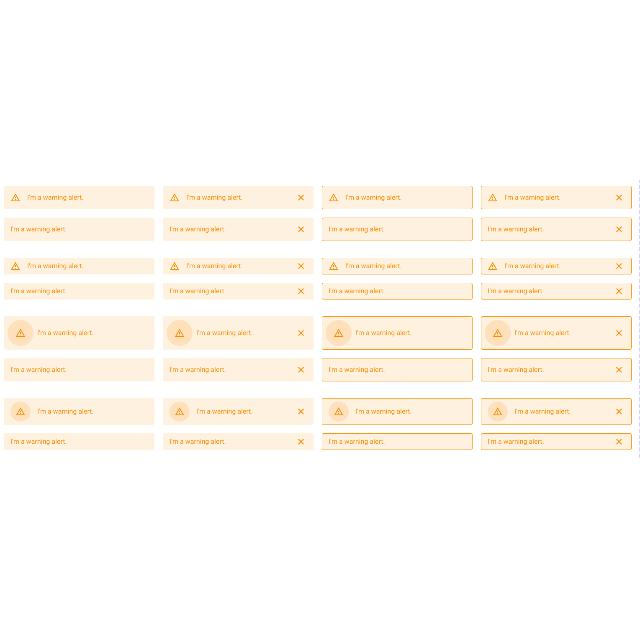QLabel: (186, 260, 244, 272), (194, 406, 253, 416), (196, 328, 254, 338), (169, 365, 227, 375), (354, 329, 412, 339), (37, 408, 95, 417), (168, 438, 226, 447), (327, 224, 385, 233), (354, 408, 412, 417), (328, 438, 386, 447), (170, 224, 227, 233), (488, 438, 544, 447), (168, 287, 228, 295), (26, 194, 84, 202), (185, 194, 243, 202), (344, 194, 402, 202), (344, 262, 402, 270), (328, 288, 386, 296), (514, 329, 572, 337), (486, 366, 544, 374), (9, 366, 66, 374), (9, 438, 66, 446), (328, 366, 384, 374), (504, 194, 560, 202), (488, 226, 544, 234), (504, 262, 560, 270), (488, 288, 544, 296), (514, 408, 570, 416), (10, 225, 68, 232), (37, 329, 93, 336), (27, 264, 83, 270), (10, 288, 66, 294)
VAlert: (162, 316, 314, 350), (481, 316, 632, 350), (322, 316, 472, 350), (4, 316, 154, 349), (162, 398, 314, 426), (481, 398, 632, 426), (4, 398, 154, 426), (322, 398, 472, 426), (322, 216, 472, 242), (162, 217, 314, 241), (162, 358, 314, 382), (481, 186, 632, 210), (481, 217, 632, 241), (481, 358, 632, 382), (4, 185, 154, 209), (4, 217, 154, 241), (4, 358, 154, 382), (322, 186, 472, 210), (322, 358, 472, 382), (162, 187, 314, 210), (163, 257, 315, 275), (162, 282, 314, 300), (481, 282, 632, 300), (322, 282, 472, 300), (162, 434, 314, 451), (481, 434, 632, 451), (4, 434, 154, 451), (322, 434, 472, 451), (481, 258, 632, 274), (4, 258, 154, 274), (4, 283, 154, 299), (322, 258, 472, 274)
VIcon: (487, 192, 497, 204), (492, 328, 502, 338), (333, 407, 342, 418), (334, 329, 344, 338), (615, 365, 623, 375), (488, 262, 498, 270), (494, 407, 502, 417), (170, 193, 180, 201), (16, 408, 26, 416), (10, 262, 20, 270), (328, 262, 338, 270), (169, 262, 179, 270), (12, 194, 21, 202), (297, 262, 305, 270), (297, 438, 305, 446), (615, 408, 623, 416), (615, 226, 623, 234), (330, 194, 338, 202), (176, 408, 184, 416), (176, 329, 184, 337), (16, 329, 24, 337), (298, 225, 304, 233), (298, 408, 304, 416), (616, 194, 622, 202), (298, 193, 304, 200), (298, 330, 304, 336), (616, 330, 622, 336), (298, 367, 304, 373), (298, 288, 304, 294), (616, 439, 622, 445), (616, 263, 622, 269), (616, 288, 622, 294)
